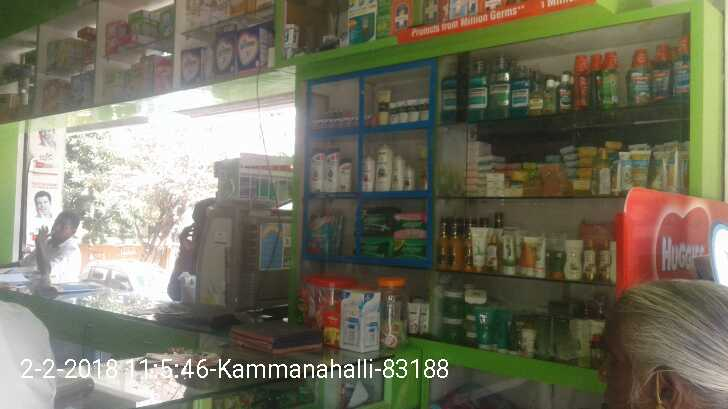beauty: (375, 145, 391, 193), (308, 148, 325, 193), (324, 146, 338, 194), (360, 154, 375, 193), (337, 158, 353, 194), (376, 86, 390, 125), (391, 152, 403, 191), (403, 160, 415, 190), (419, 96, 430, 121), (408, 98, 419, 122), (390, 103, 400, 124), (400, 101, 408, 122)
pharmacy: (303, 210, 338, 255), (393, 210, 427, 239), (349, 235, 387, 256), (391, 237, 425, 259)
